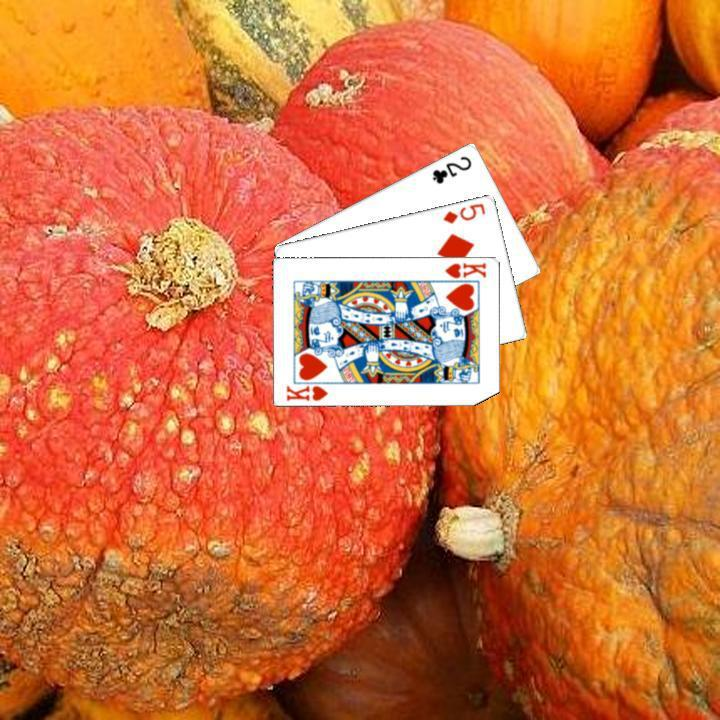2: (428, 151, 474, 186)
5: (439, 198, 487, 225)
K: (441, 258, 488, 280), (282, 381, 330, 402)
